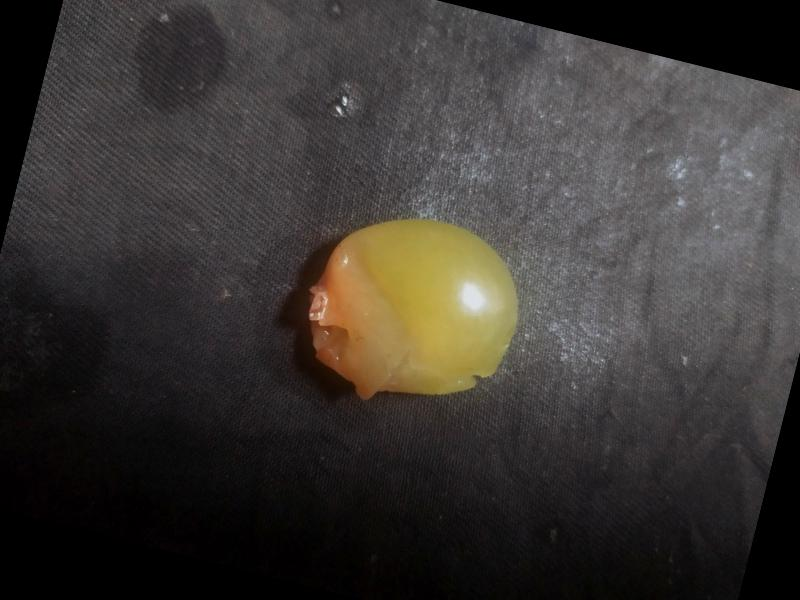Grape Overripe: (284, 187, 541, 435)
